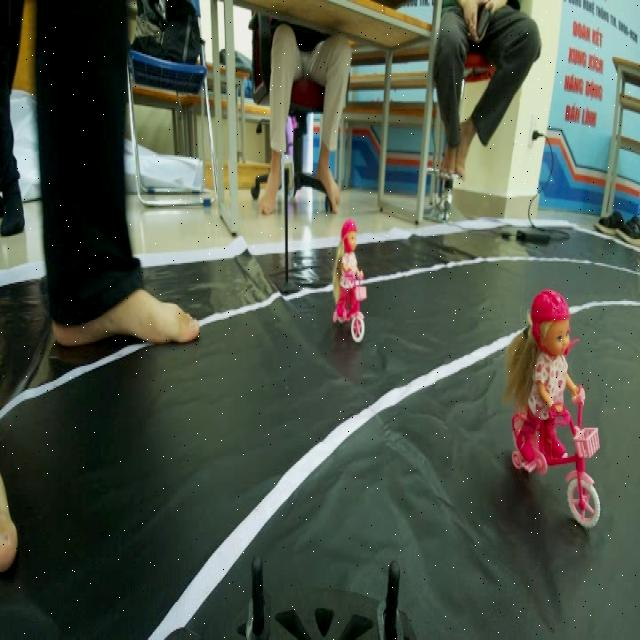pedestrian: (494, 278, 610, 544), (320, 206, 374, 344)
